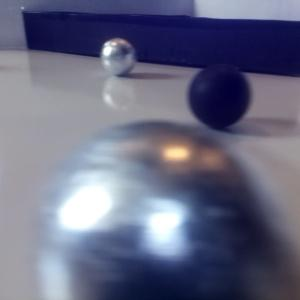zone: (22, 11, 300, 77)
